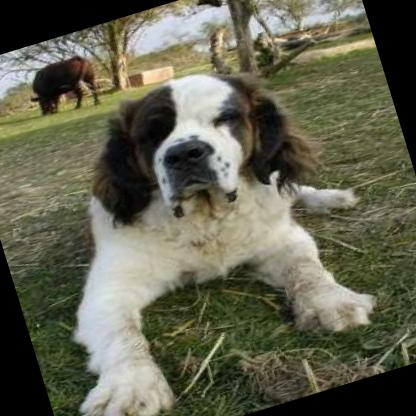Saint_Bernard: (0, 35, 400, 416)
